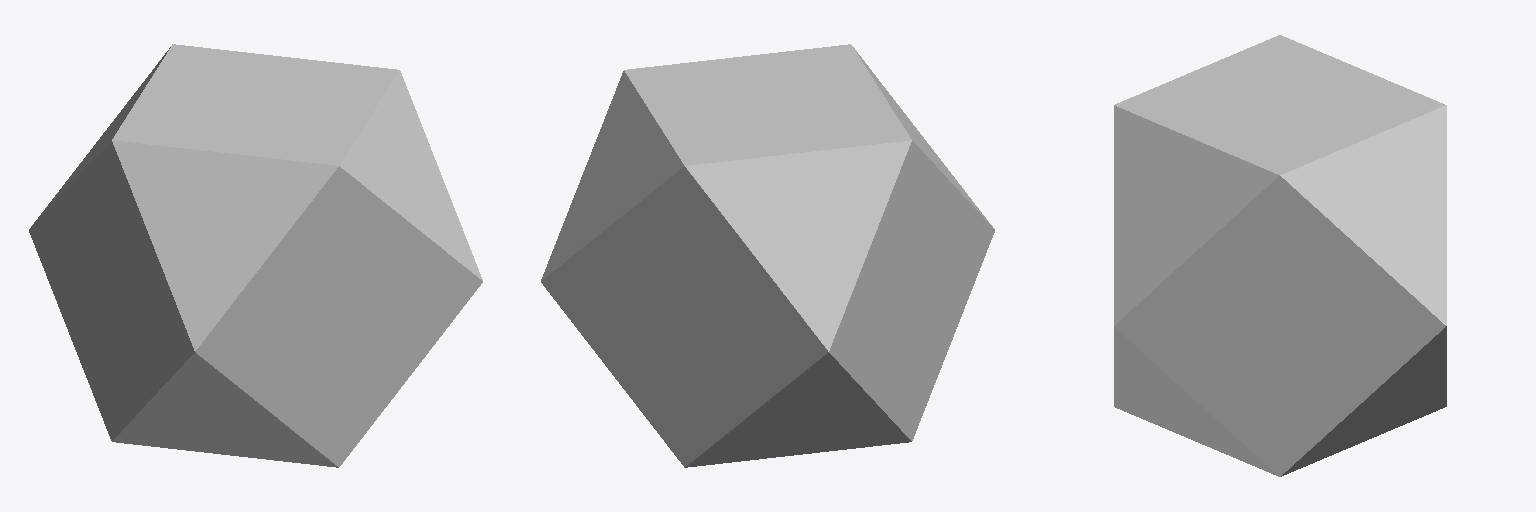
The model's file is coriolis.obj.
3 views of the same model, side by side, from view 1: azimuth 30°, elevation 25°; view 2: azimuth 150°, elevation 25°; view 3: azimuth 270°, elevation 25° (orthographic).
Visible parts, largest first — view 1: obj1; view 2: obj1; view 3: obj1.
Part boxes in pixels (x1,y1,x2,y2): obj1: (29, 44, 482, 467); obj1: (541, 44, 994, 467); obj1: (1114, 35, 1446, 476).
Size of the model in its own units: 320 by 320 by 320.